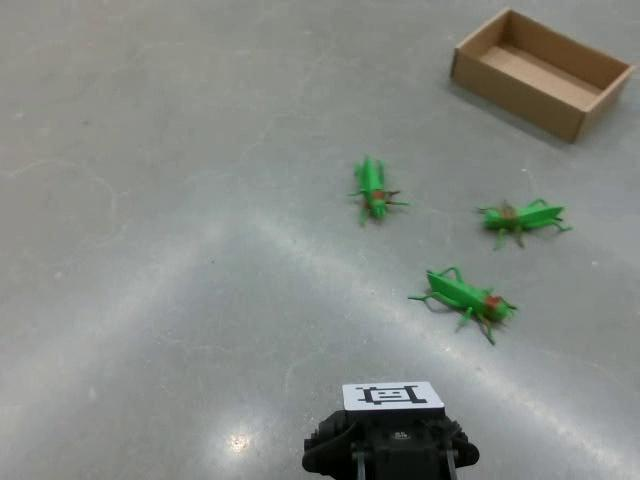box: (449, 6, 634, 144)
grasshopper: (406, 265, 518, 345), (474, 196, 572, 250), (347, 153, 409, 227)
